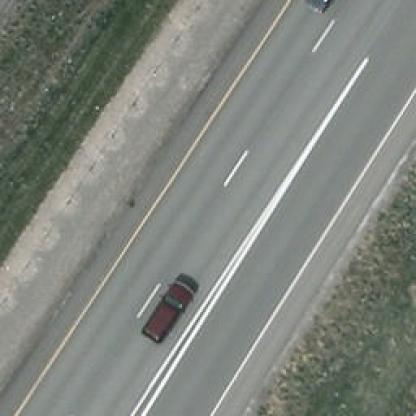car: (142, 281, 194, 345), (306, 0, 358, 13), (0, 0, 3, 20)
